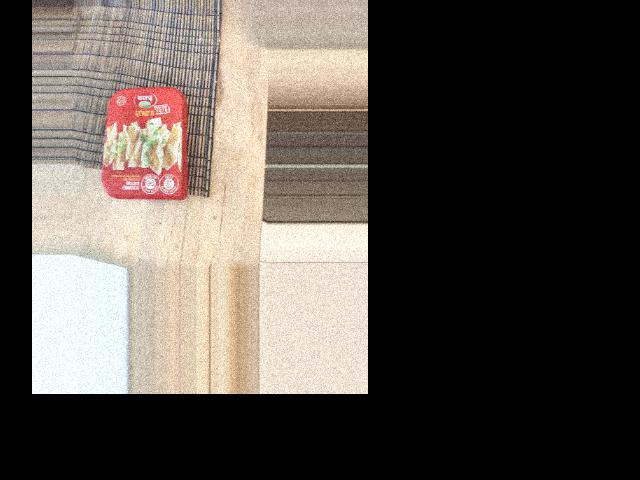cheese: (47, 35, 194, 115)
